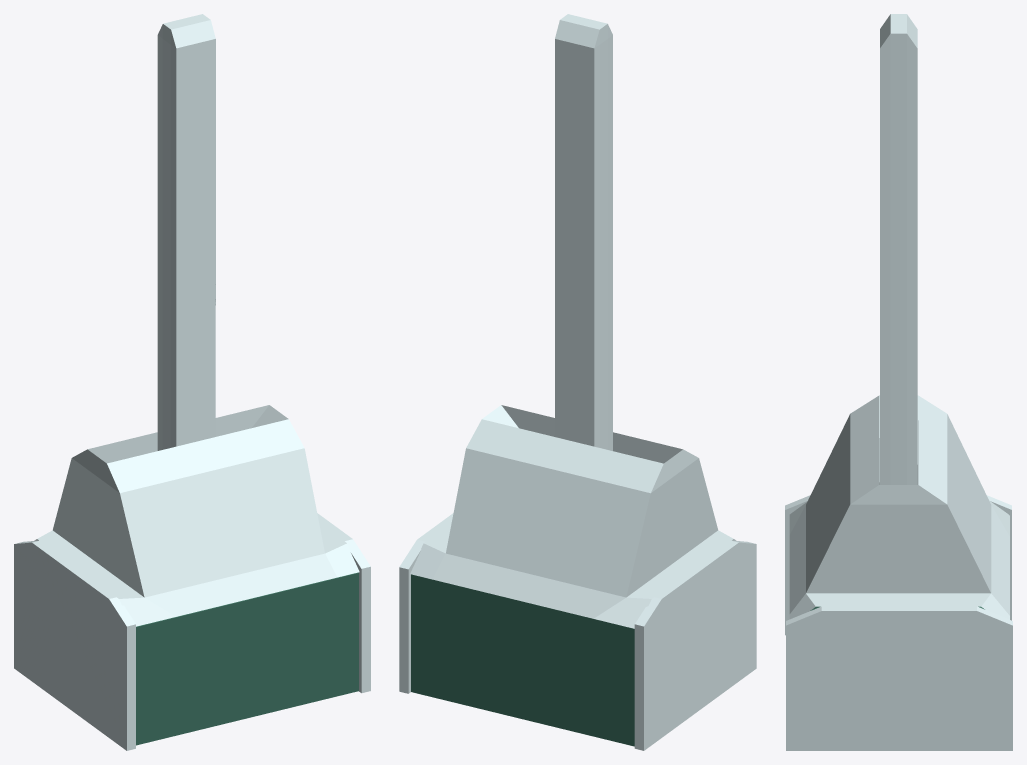
File: Pless2 (3).fbx
3 views of the same model, side by side, from view 1: azimuth 30°, elevation 25°; view 2: azimuth 150°, elevation 25°; view 3: azimuth 270°, elevation 25° (orthographic).
Parts seen in each view (by area): view 1: 立方体.002; view 2: 立方体.002; view 3: 立方体.002.
Part boxes in pixels (x1,y1,x2,y2): 立方体.002: (14, 14, 370, 750); 立方体.002: (399, 14, 756, 750); 立方体.002: (785, 14, 1012, 750).
Size of the model in its own units: 355 by 915 by 284.
